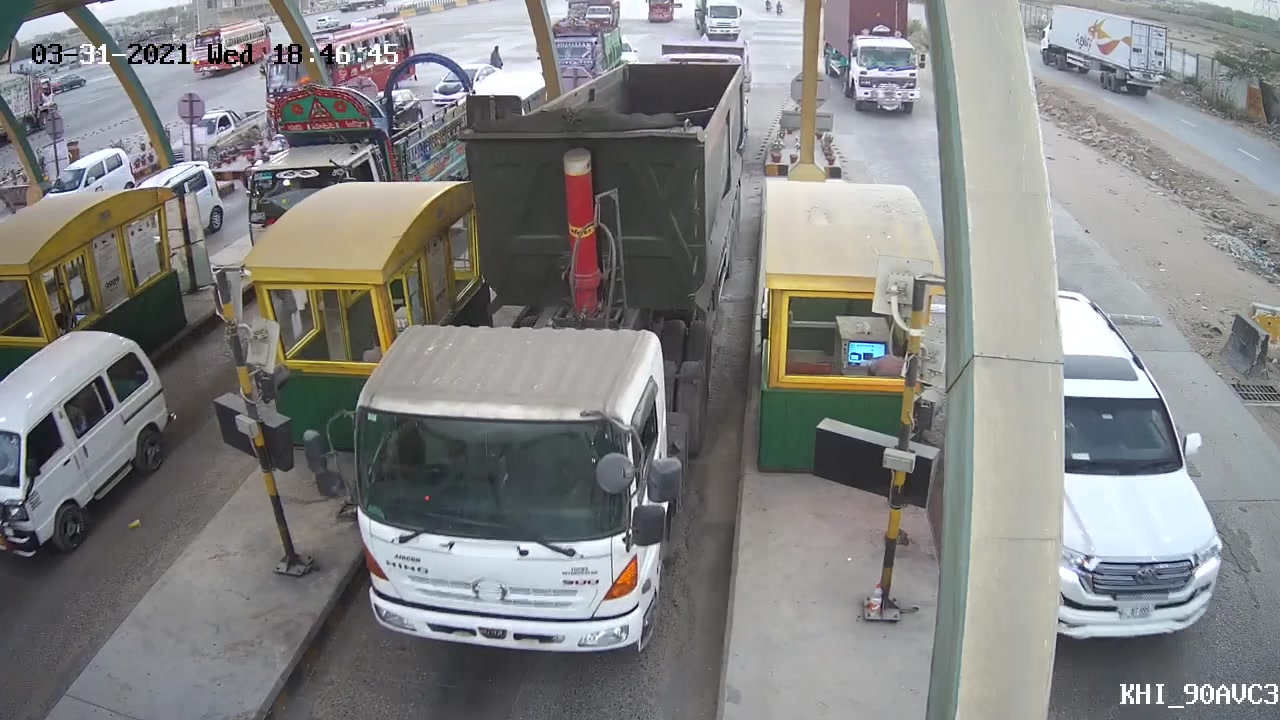F5: (336, 58, 754, 667)
